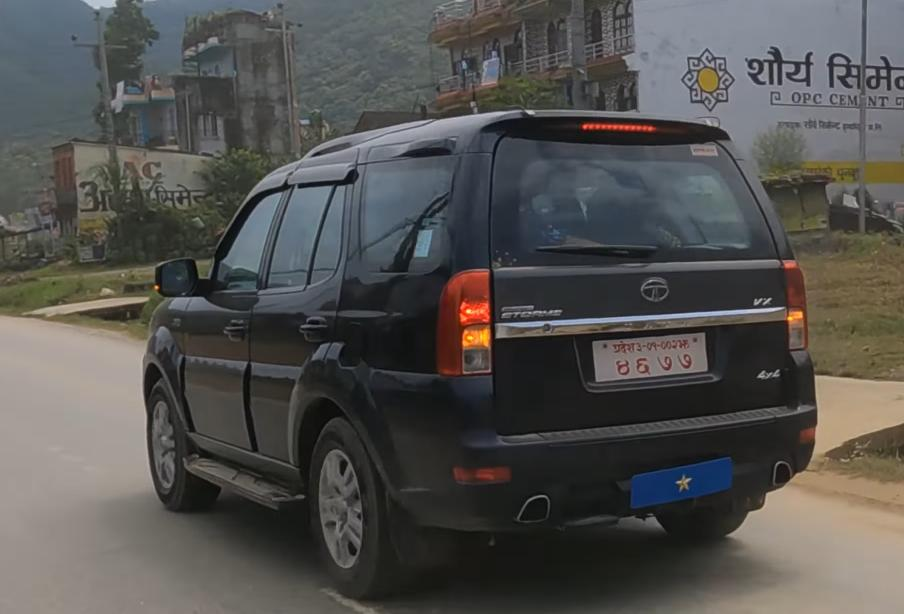SUV: (119, 98, 826, 614)
